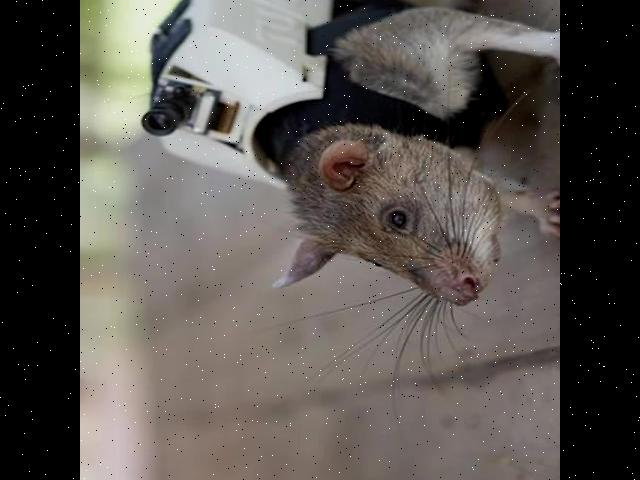Tikus: (264, 10, 554, 322)
